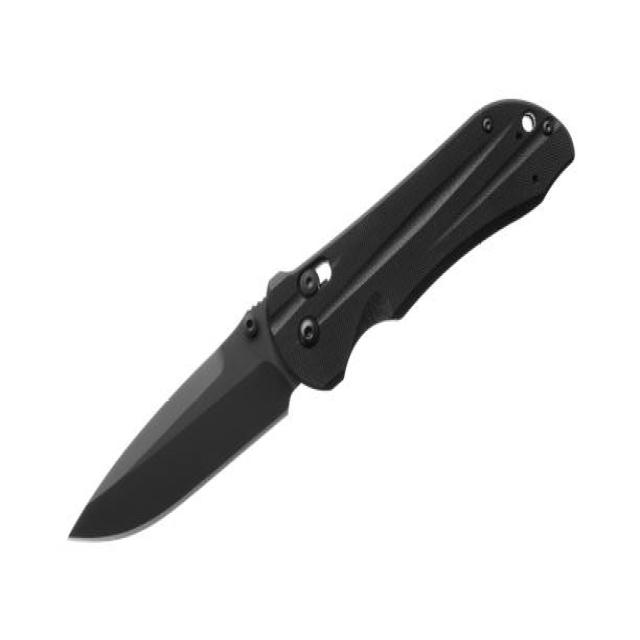knife: (69, 88, 580, 549)
